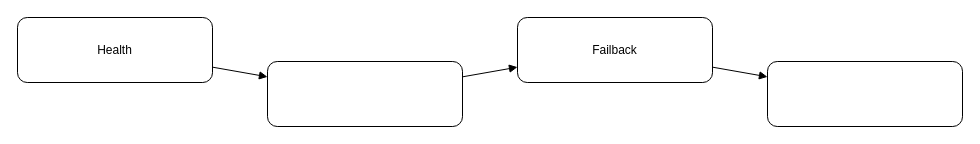
Image size: 980x144. Some labels were removed from this diagram. The shapes that lost their labels are listed below. From the top down, each one's centre as x and y in pixels, then its label:
At point 364,93: "Sync".
At point 864,93: "RADIUS active".
